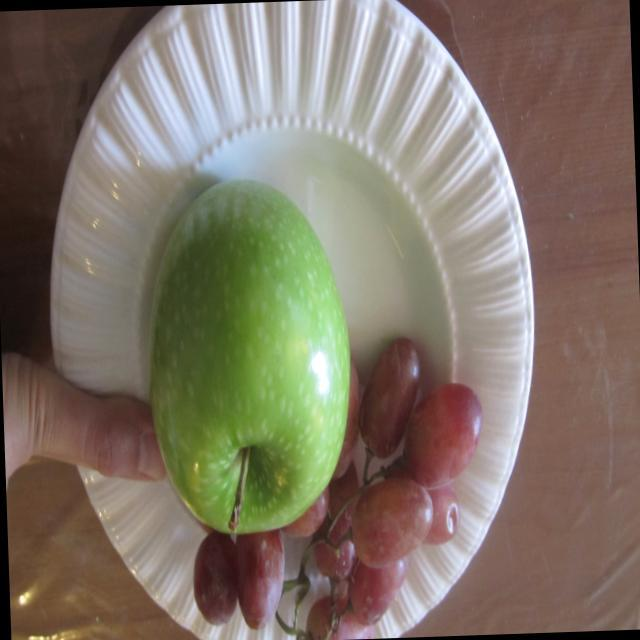Apple: (140, 168, 364, 539)
Finger: (72, 388, 156, 488)
Grapes: (352, 333, 494, 637), (196, 533, 407, 640)
